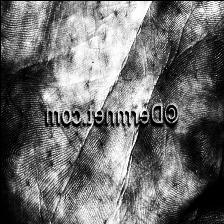Potentially Malignant Skin Tumors: (106, 0, 156, 45), (60, 130, 82, 156)
